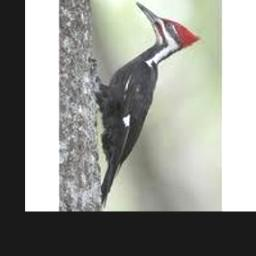Woodpecker: (95, 2, 202, 207)
